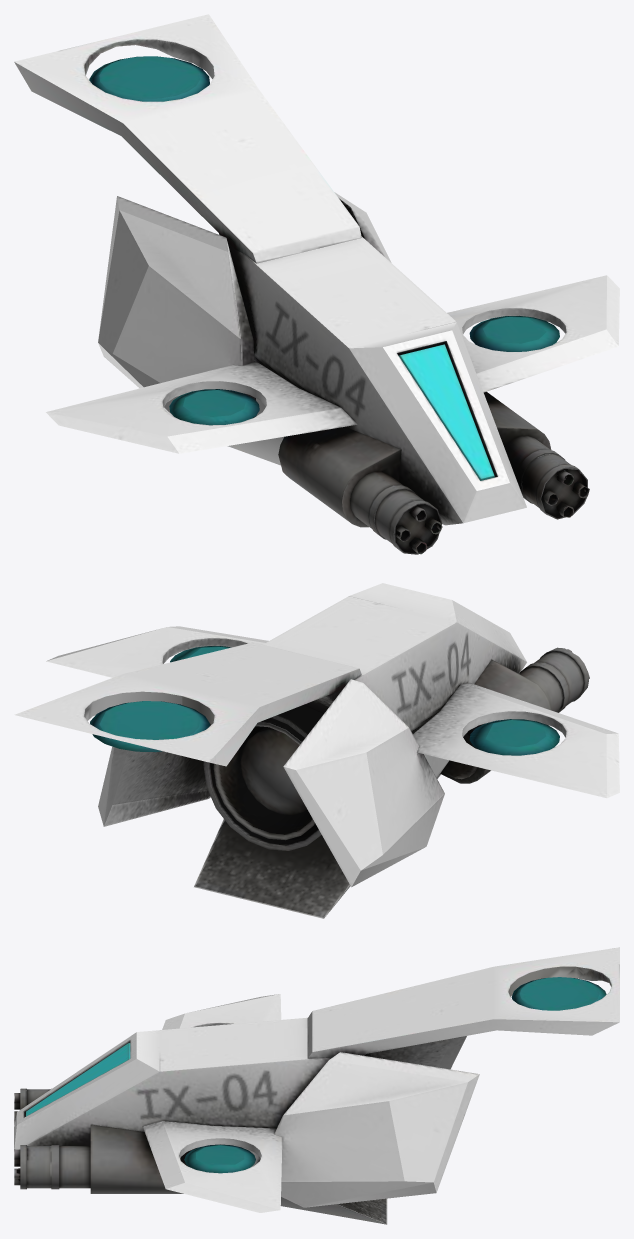
The model's file is turret-0-2.glb.
3 views of the same model, one above another, from view 1: azimuth 30°, elevation 25°; view 2: azimuth 150°, elevation 25°; view 3: azimuth 270°, elevation 25° (orthographic). The views are drawn at different scales.
Parts seen in each view (by area): view 1: turret-0-2_0; view 2: turret-0-2_0; view 3: turret-0-2_0.
Boxes of the visible parts, bbox=[...] form: turret-0-2_0: bbox=[14, 14, 619, 554]; turret-0-2_0: bbox=[14, 583, 619, 918]; turret-0-2_0: bbox=[14, 947, 619, 1224].
Size of the model in its own units: 0.8445 by 0.3912 by 1.
1 material, 1 textured.
